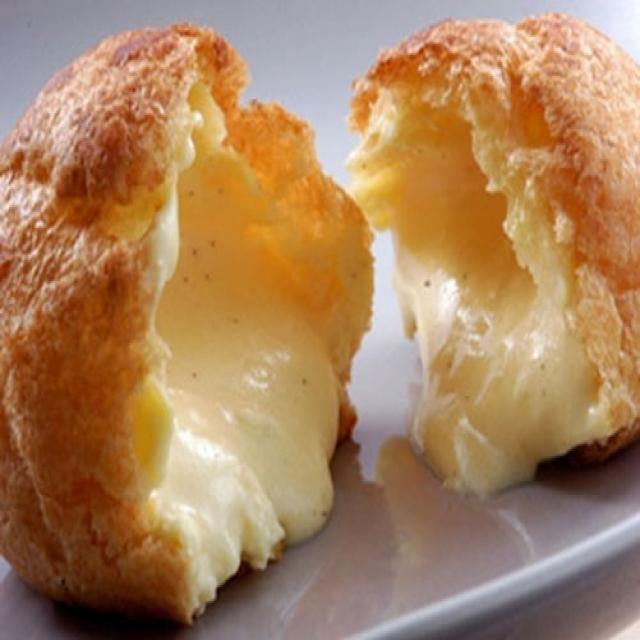炸货点心: (9, 16, 635, 590)
蛋糕甜品: (9, 16, 635, 590)
